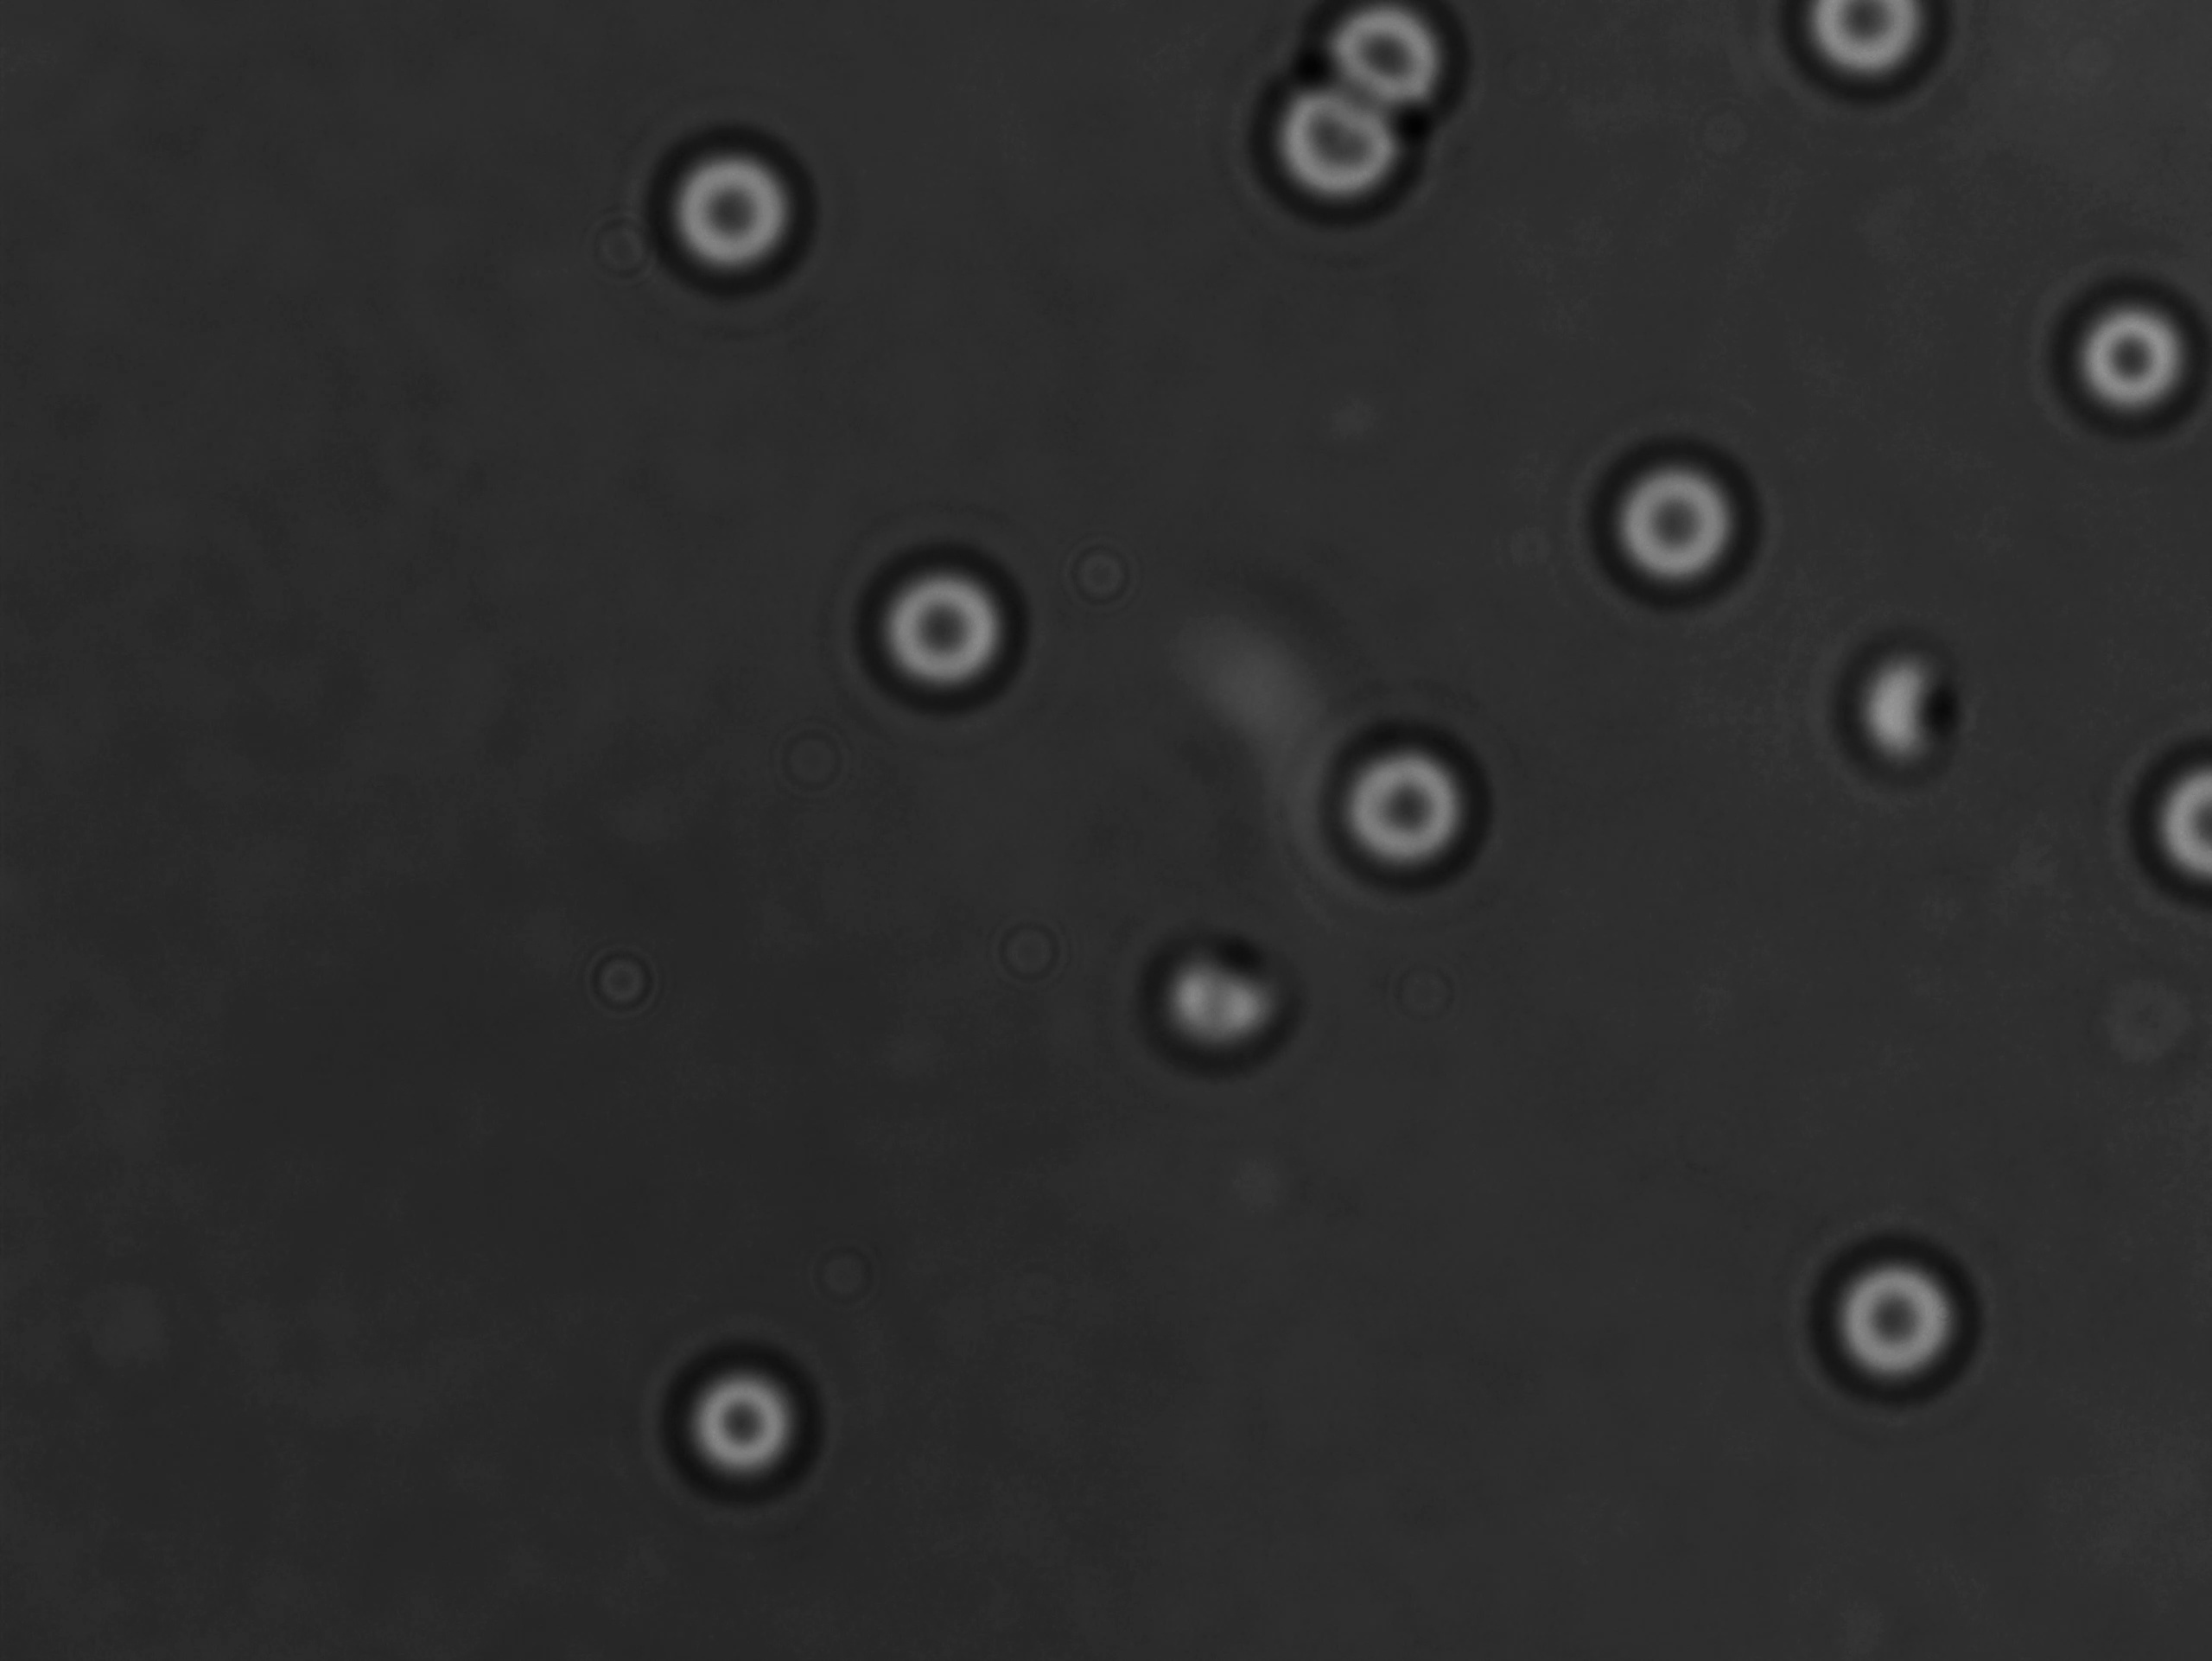depth:60: (1298, 712, 1514, 919), (1605, 414, 1814, 626), (1807, 1223, 2001, 1420), (846, 530, 1036, 731), (2043, 244, 2212, 443), (626, 126, 818, 293)
